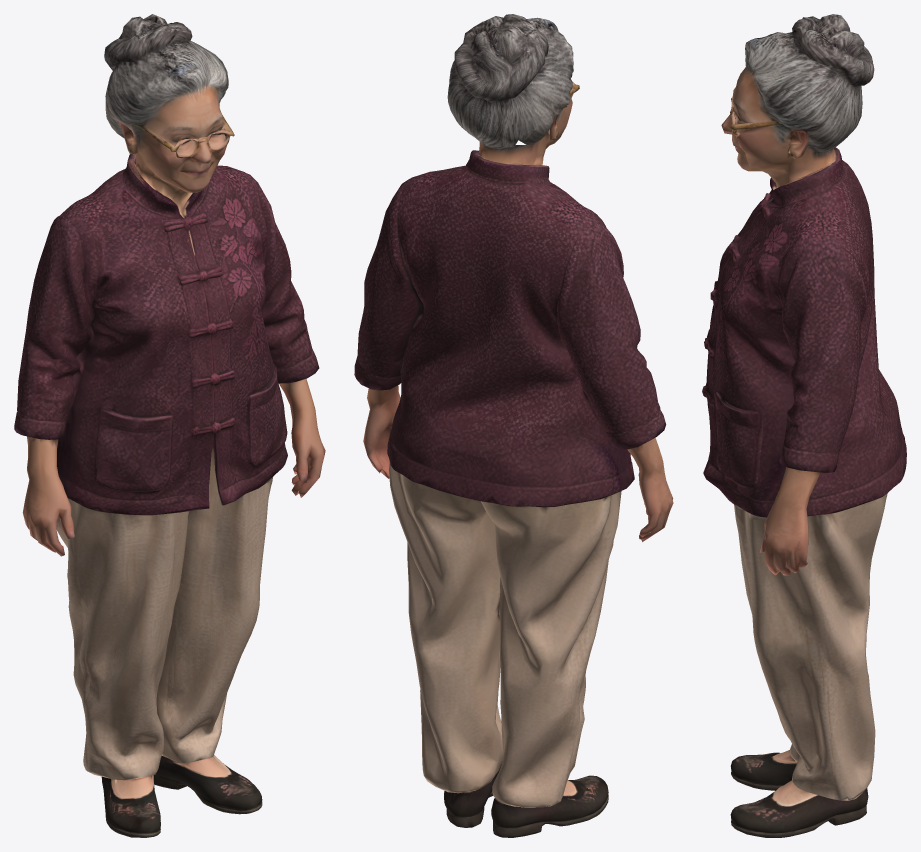
The model's file is herbs.glb.
3 renders of one model, left to right at view 1: azimuth 30°, elevation 25°; view 2: azimuth 150°, elevation 25°; view 3: azimuth 270°, elevation 25°, orthographic. The views are drawn at different scales.
Visible parts, largest first — view 1: tripo_node_cdeff79e-390f-4176-8c91-ef1da031167a, herbs articulation; view 2: tripo_node_cdeff79e-390f-4176-8c91-ef1da031167a; view 3: tripo_node_cdeff79e-390f-4176-8c91-ef1da031167a, herbs articulation.
Part boxes in pixels (x1,y1,x2,y2): tripo_node_cdeff79e-390f-4176-8c91-ef1da031167a: (14,14,325,837); herbs articulation: (130,87,234,209); tripo_node_cdeff79e-390f-4176-8c91-ef1da031167a: (354,14,673,837); tripo_node_cdeff79e-390f-4176-8c91-ef1da031167a: (702,14,906,837); herbs articulation: (721,81,790,197).
Bounding box in the file's own units: 0.3895 × 0.9791 × 0.2321.
2 materials, 1 textured.
